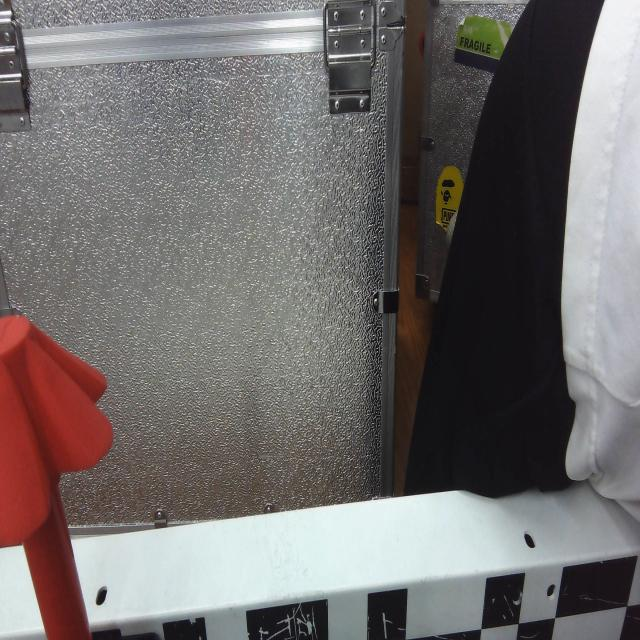zred-Stake-Head: (0, 311, 115, 547)
